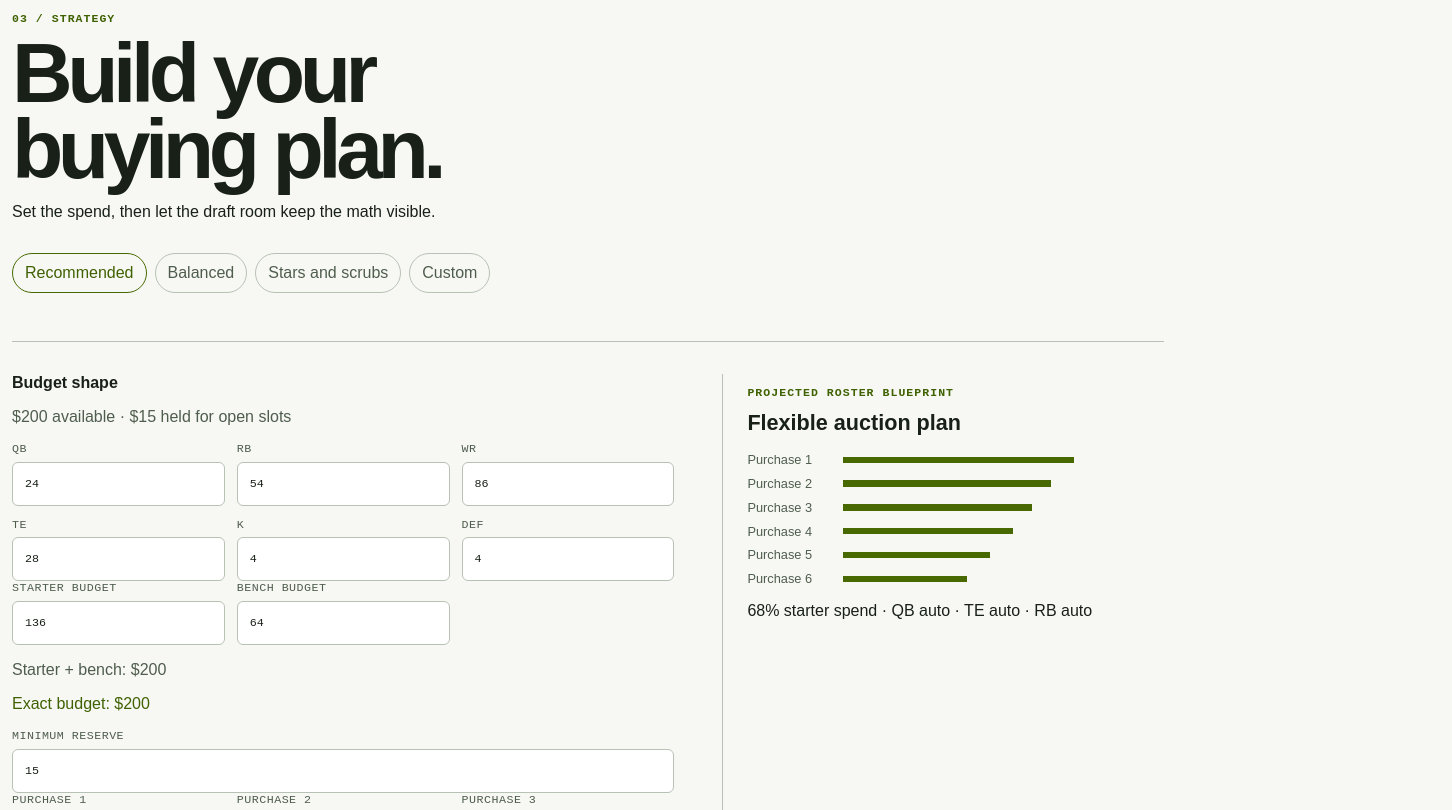
Test case: StrategyBuilder › switches to a stars-and-scrubs spending curve
Click the button "Stars and scrubs" at (328, 273), box [255,253,401,293]
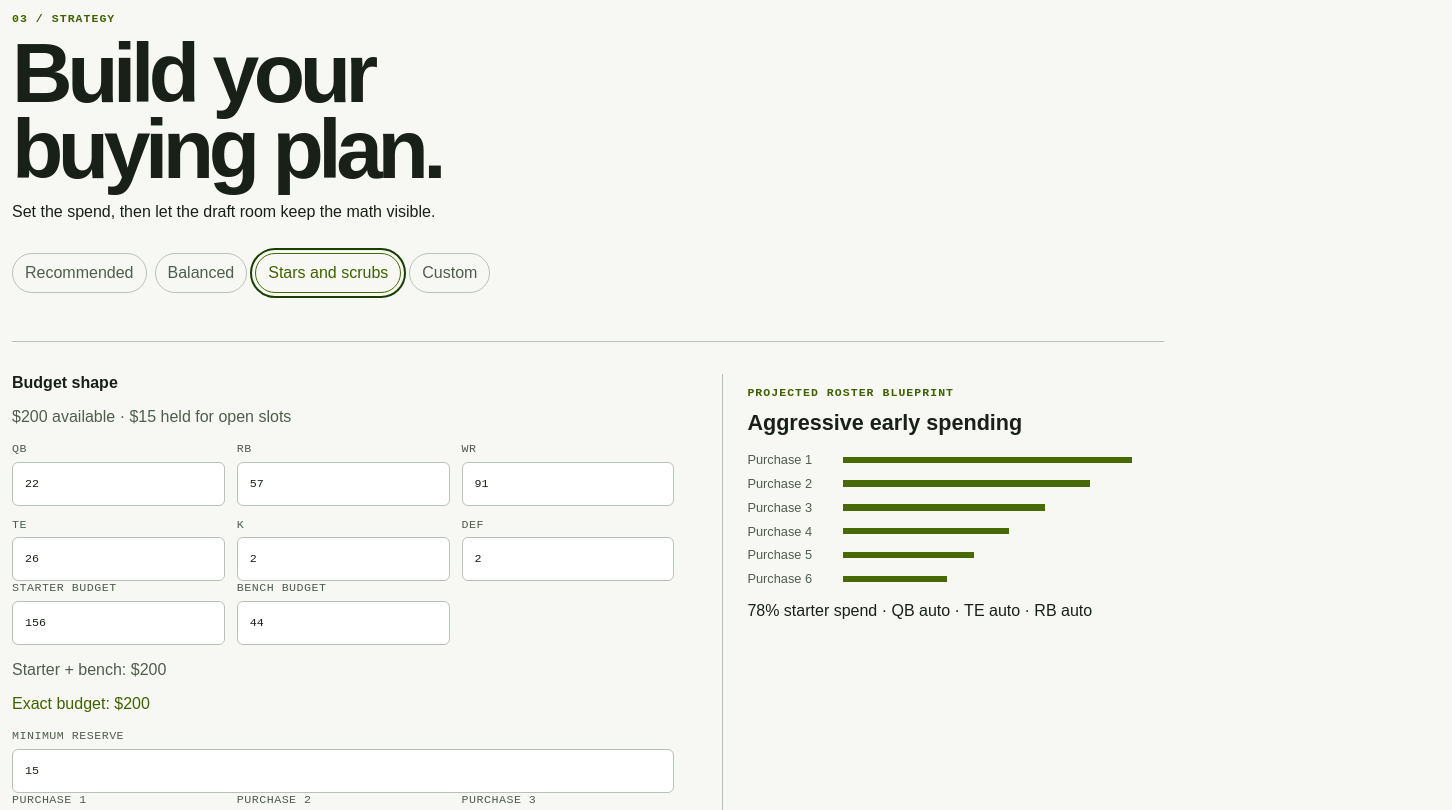
Expected: the text "Aggressive early spending" is shown, [747,410,1022,435]
